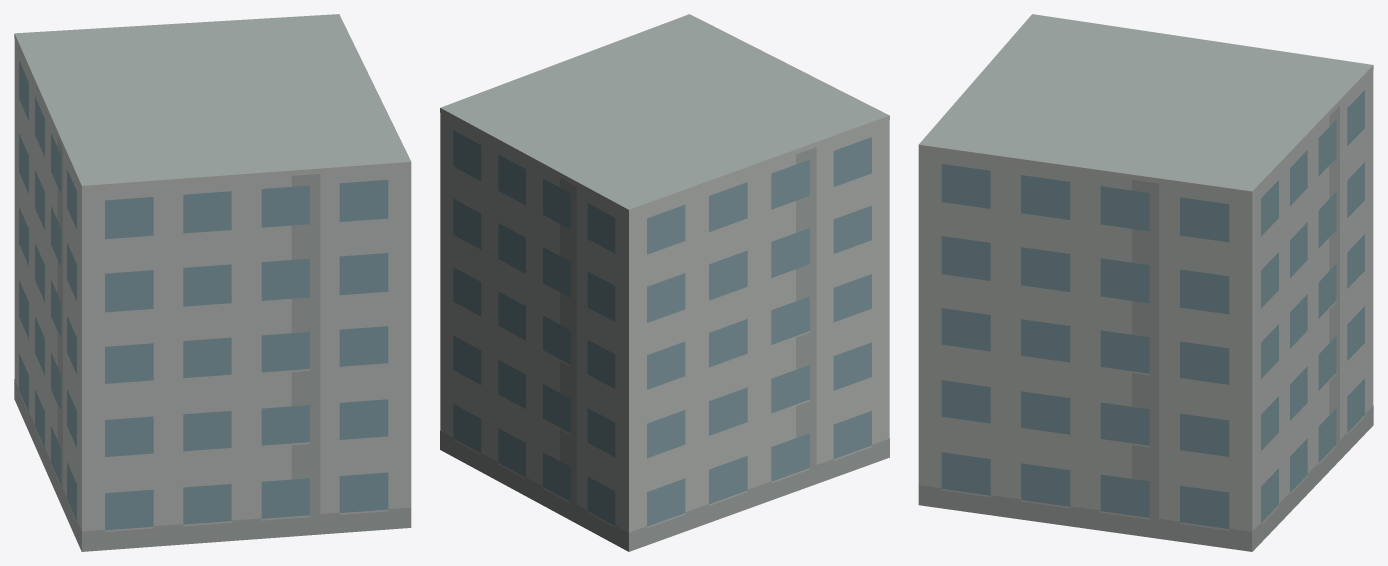
File: survey-upis-32700807.glb
3 views of the same model, side by side, from view 1: azimuth 30°, elevation 25°; view 2: azimuth 150°, elevation 25°; view 3: azimuth 270°, elevation 25° (orthographic). The views are drawn at different scales.
Visible parts, largest first — view 1: survey-upis-32700807.tmp; view 2: survey-upis-32700807.tmp; view 3: survey-upis-32700807.tmp.
Part boxes in pixels (x1,y1,x2,y2): survey-upis-32700807.tmp: (14, 14, 411, 551); survey-upis-32700807.tmp: (440, 14, 889, 551); survey-upis-32700807.tmp: (918, 14, 1373, 551).
Size of the model in its own units: 17.64 by 16.7 by 19.11.
